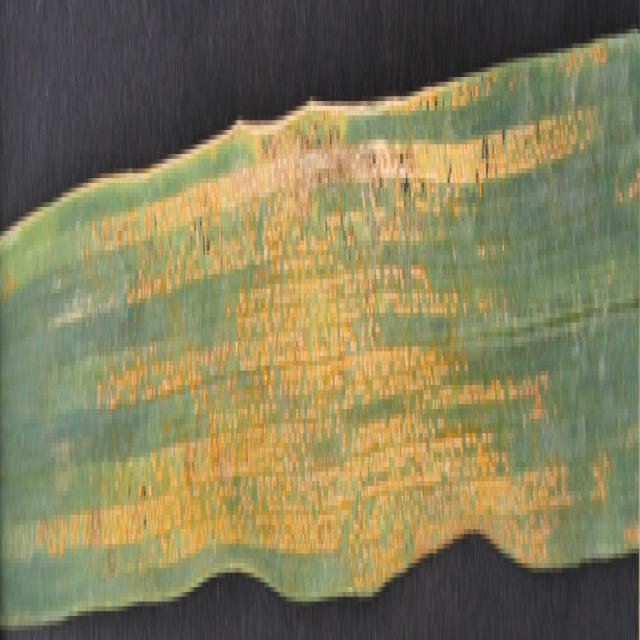leaf rust: (5, 58, 640, 602)
